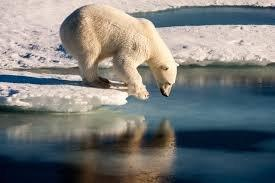bear: (61, 4, 179, 100)
